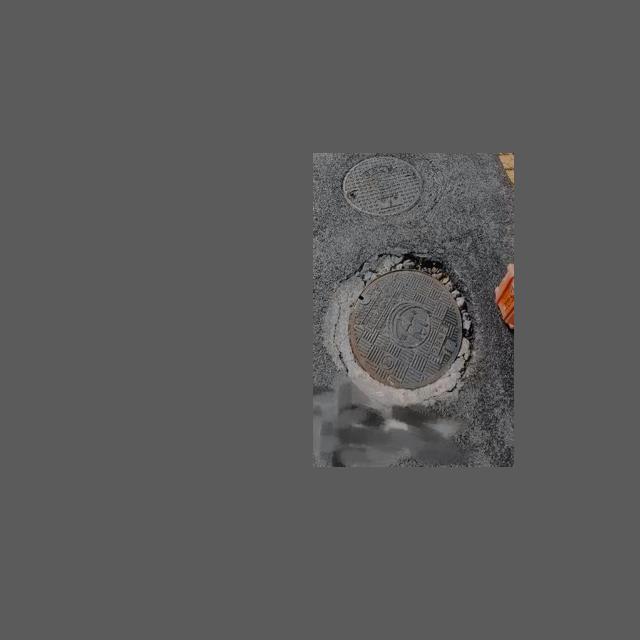circle: (325, 253, 474, 412)
good: (340, 155, 424, 216)
